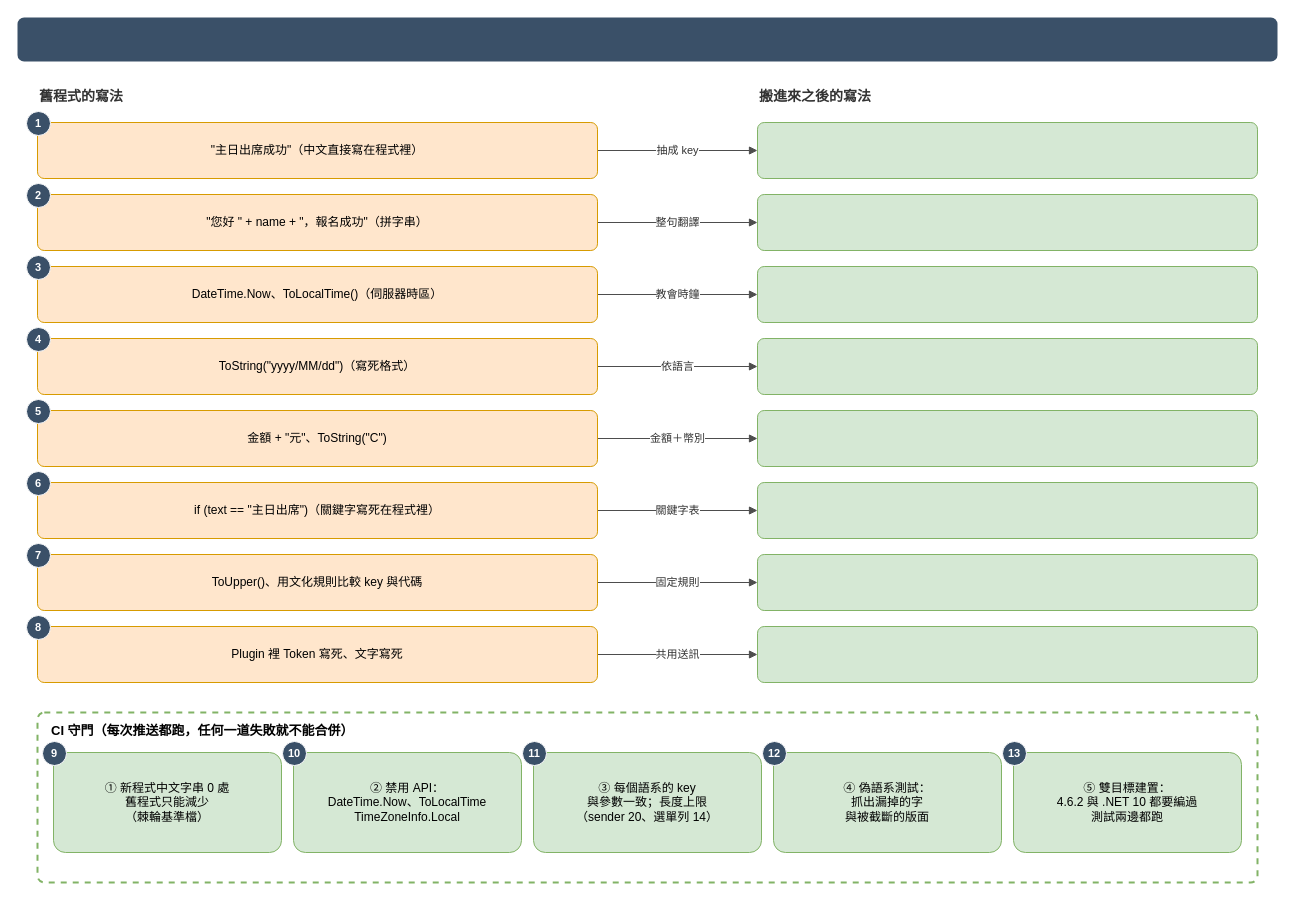
Some shapes in this 1294 by 900 pixel diagram are drawn without their labels. Here are the shapes that lost their labels. From the top down, the centre of each, then its label:
the point at 647,39: 14｜搬移時順便國際化：舊寫法 → 新寫法，八條規則＋五道 CI 守門
the point at 1007,150: Text["Attendance.Sunday.Success"]（字典）
the point at 1007,222: 一整句一個 key，參數具名：{name}
the point at 1007,294: clock.Now(教會)、clock.ToChurchTime(utc)
the point at 1007,366: 依會友語言格式化（CultureInfo）
the point at 1007,438: Money(金額, 幣別).Format(語言)
the point at 1007,510: 關鍵字表每語系一份；按鈕回傳代碼
the point at 1007,582: Ordinal／OrdinalIgnoreCase
the point at 1007,654: 共用送訊核心＋加密 Token＋字典
